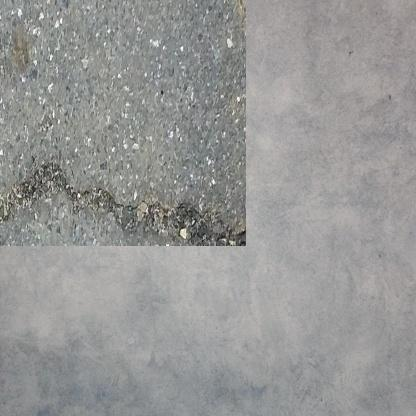Cracks: (0, 148, 227, 227)
